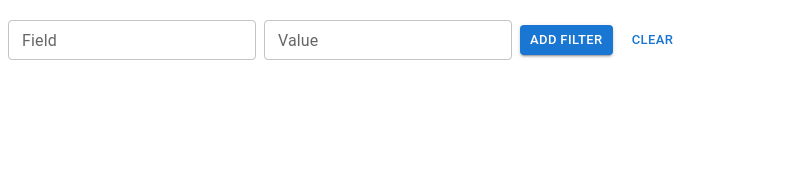
Test: GlobalFiltersBar › adds and clears filters
In the field labelled "Field": (132, 40) [8, 20, 256, 60], type "country"
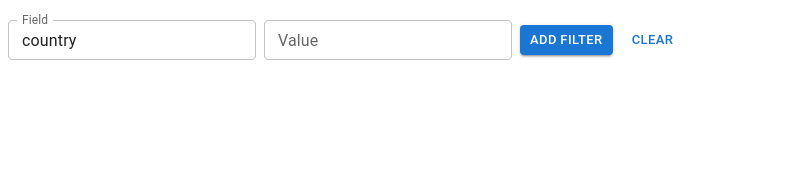
In the field labelled "Value": (388, 40) [264, 20, 512, 60], type "US"
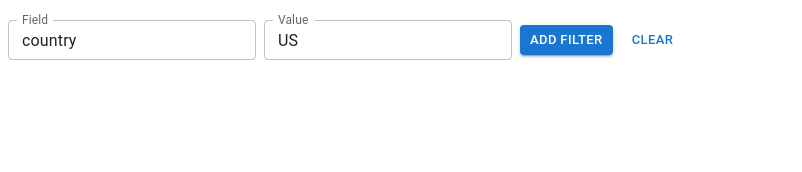
Click the button "Add filter": (566, 40) [520, 25, 612, 55]
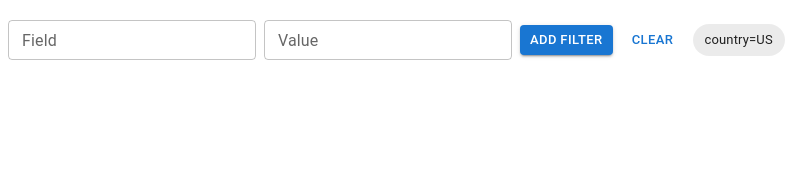
Expected: the text "country=US" is shown, [704, 32, 773, 47]
Click the button "Clear": (652, 40) [620, 25, 684, 55]
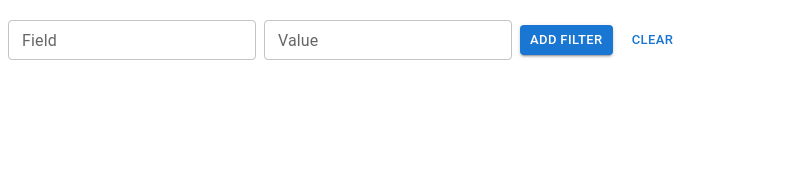
Expected: the text "country=US" is gone
